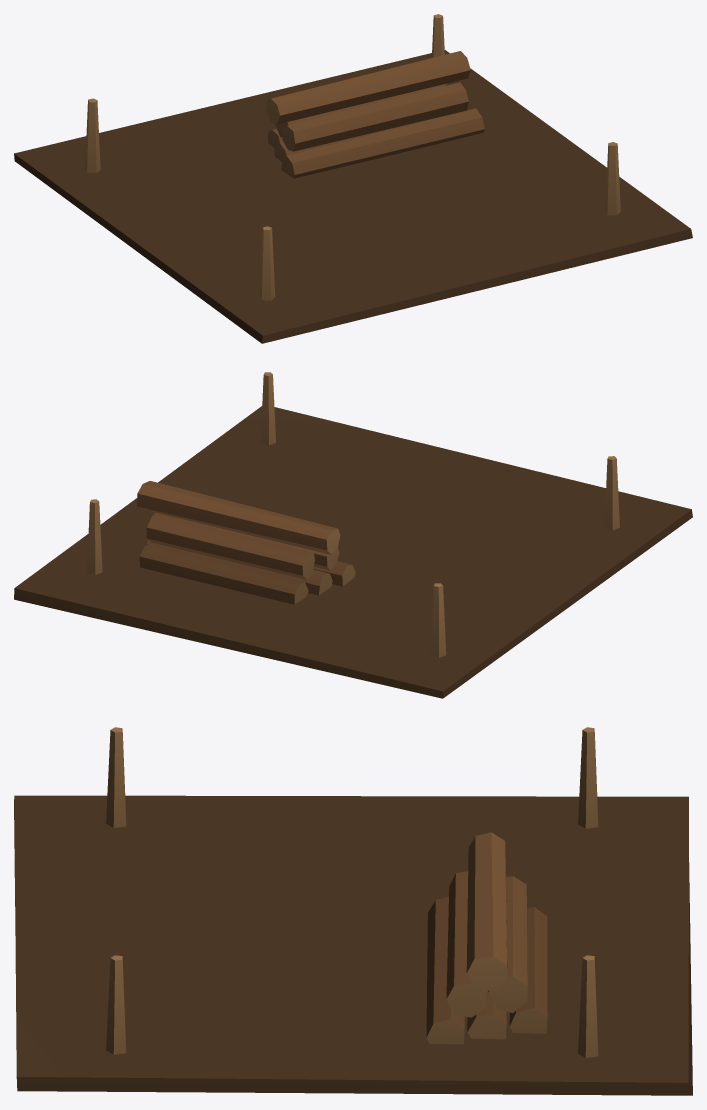
Rendered from camp_s0.glb.
3 renders of one model, top to bottom at view 1: azimuth 30°, elevation 25°; view 2: azimuth 150°, elevation 25°; view 3: azimuth 270°, elevation 25°, orthographic. The views are drawn at different scales.
Parts seen in each view (by area): view 1: camp_s0; view 2: camp_s0; view 3: camp_s0.
Boxes of the visible parts, x1,y1,x2,y2 form: camp_s0: (14, 14, 692, 343); camp_s0: (14, 372, 692, 698); camp_s0: (14, 727, 692, 1095).
Bounding box in the file's own units: 2 × 0.3595 × 2.01.
